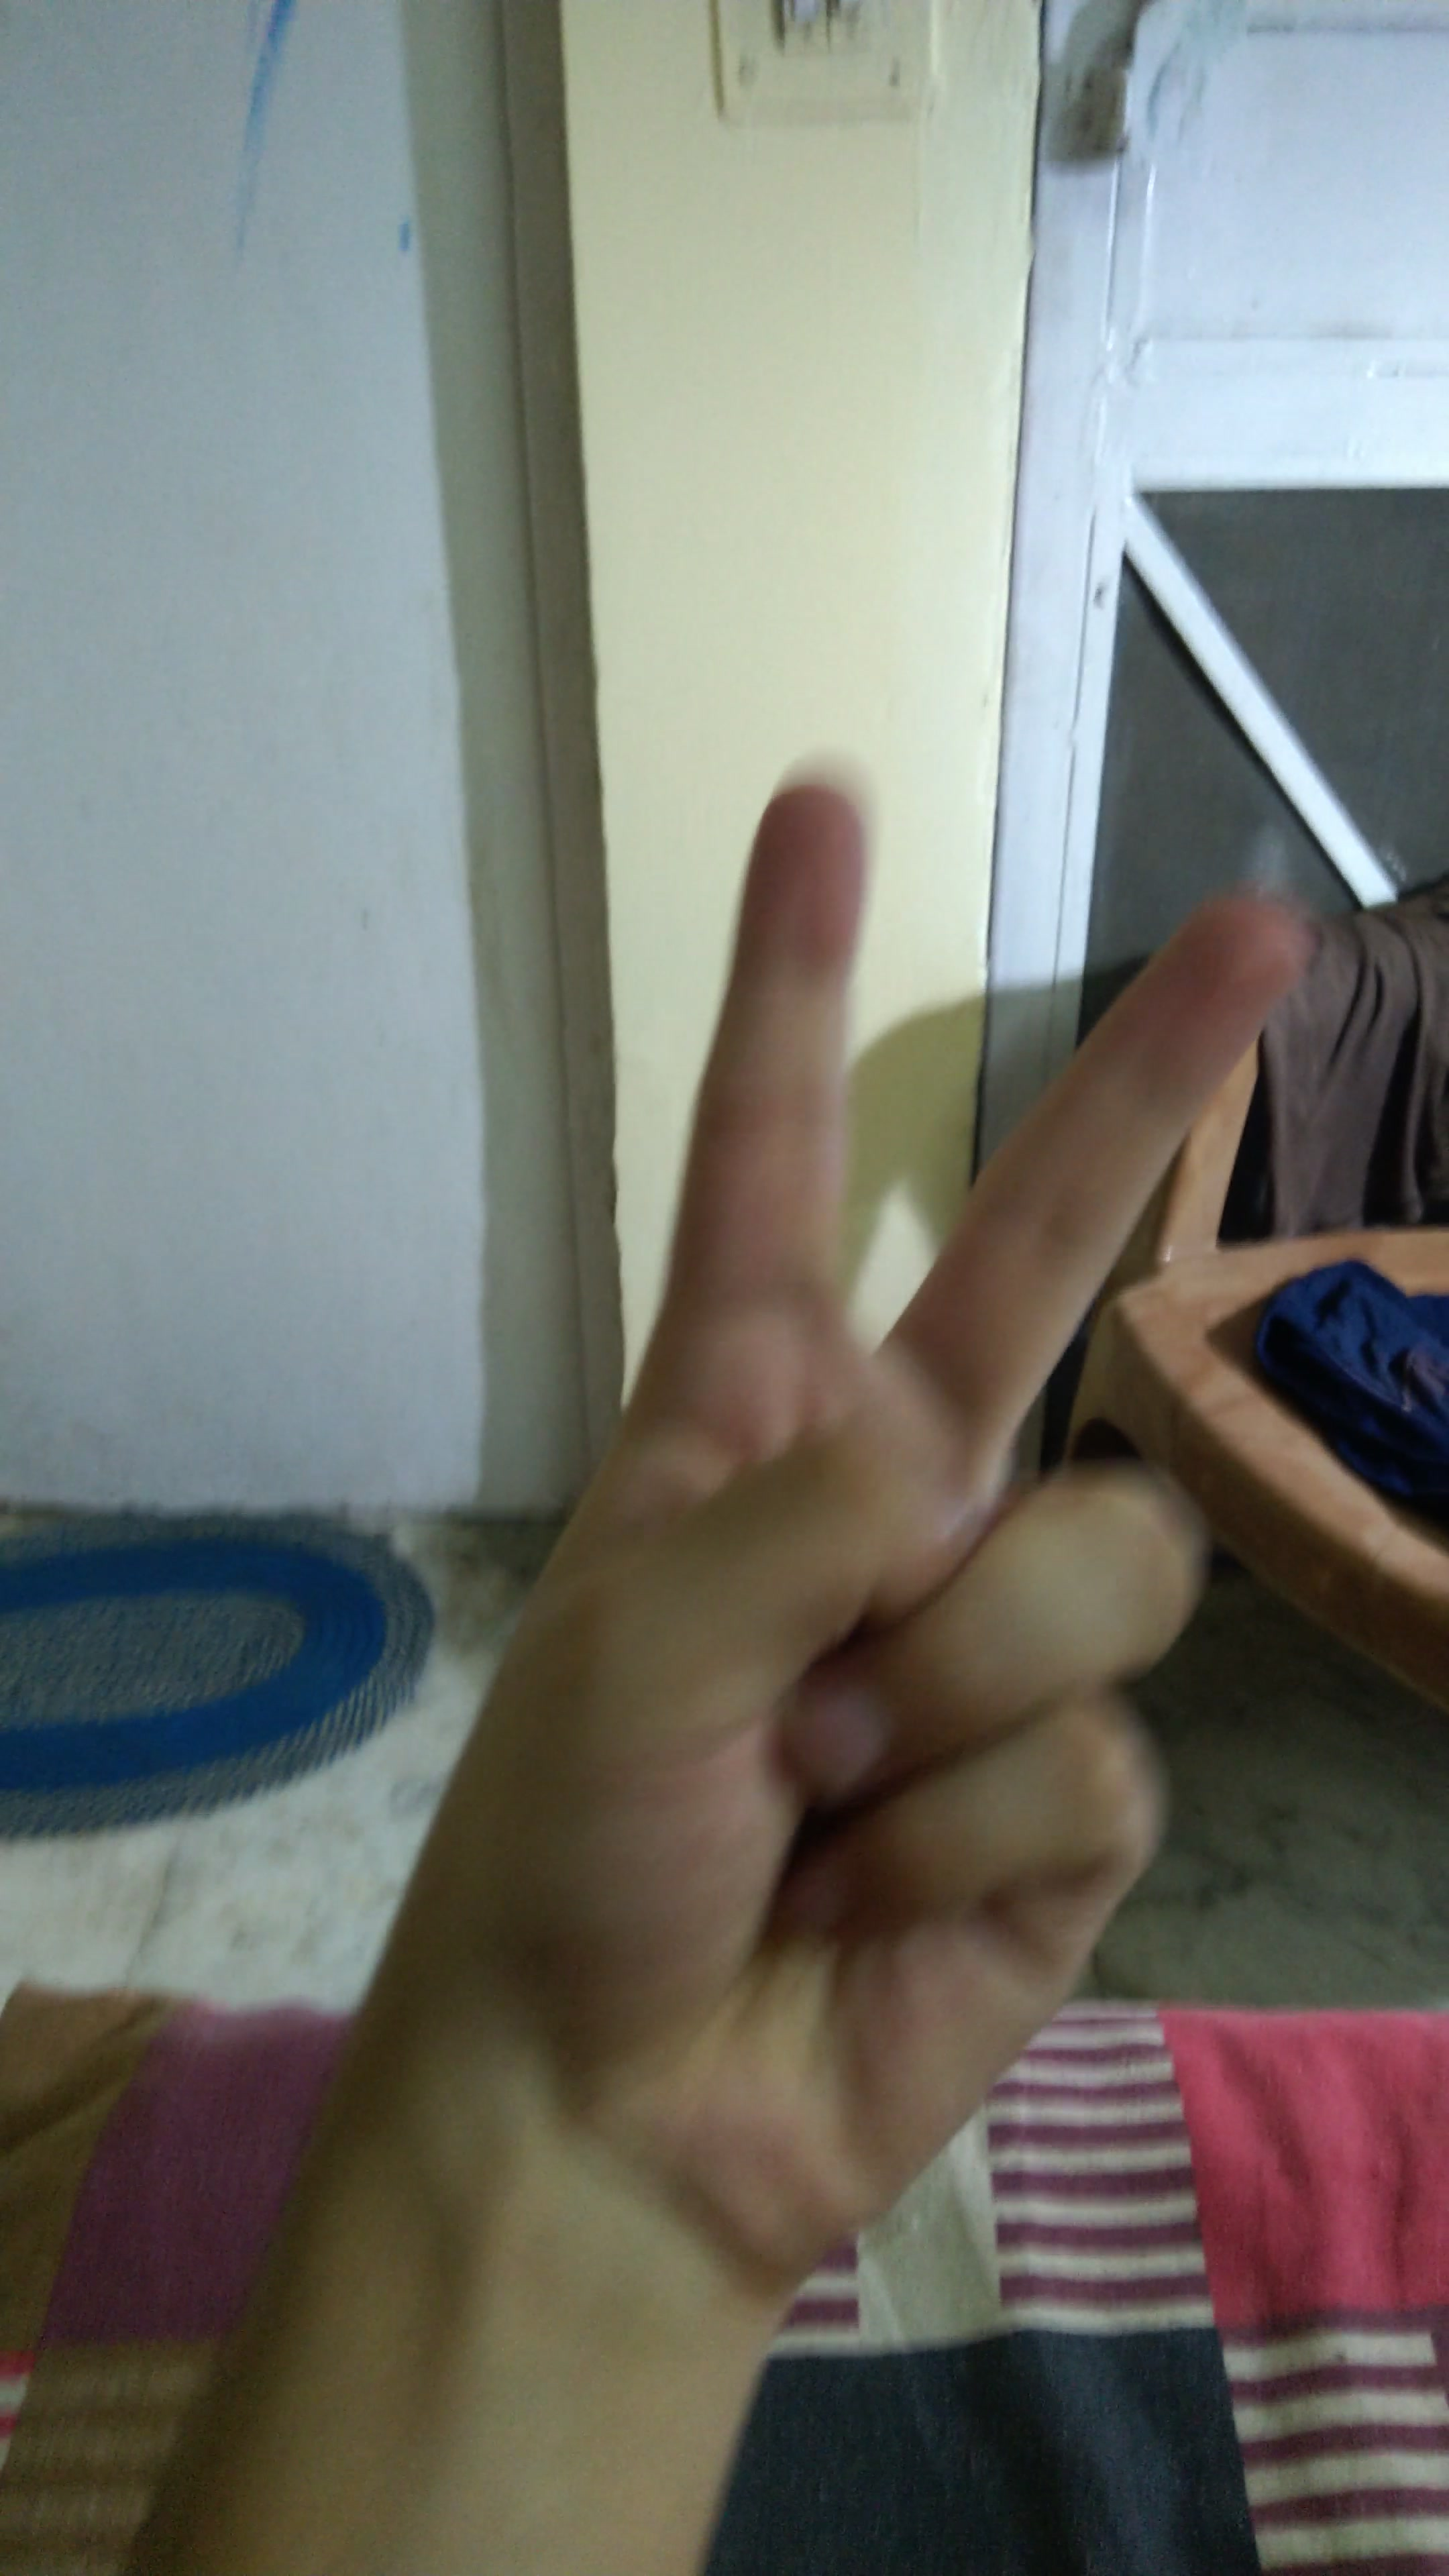hand: (264, 729, 1322, 2337)
